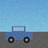vehicle: (5, 26, 32, 43)
